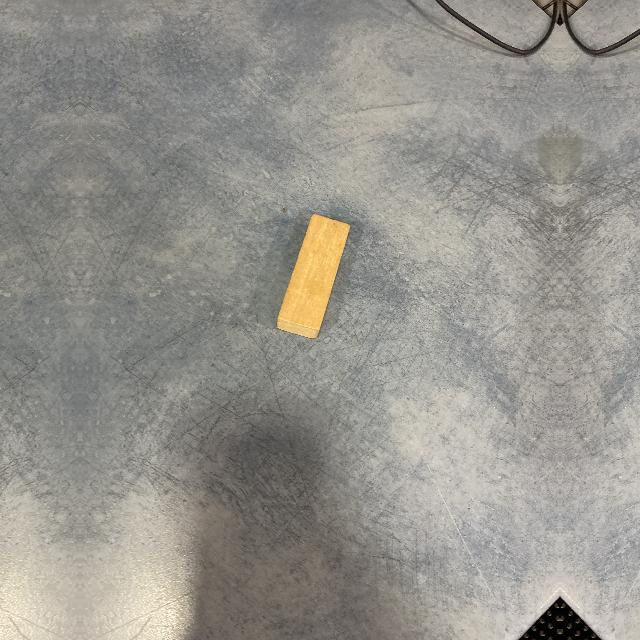jenga: (276, 215, 351, 342)
